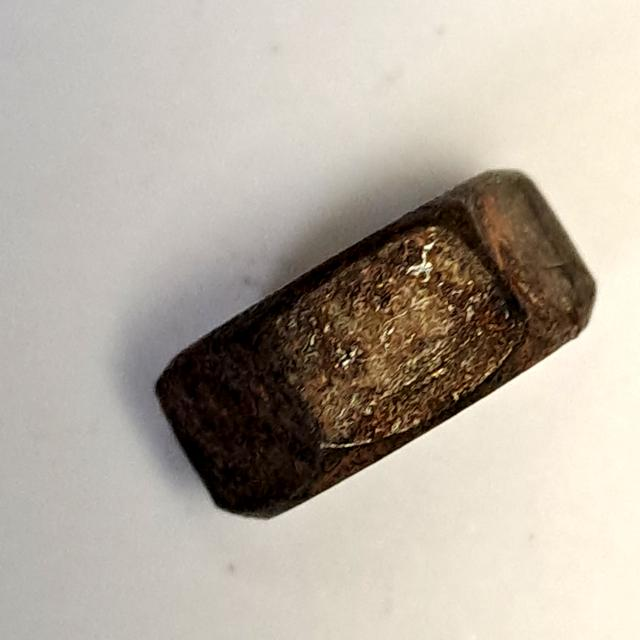Side_Rust: (134, 154, 612, 538)
